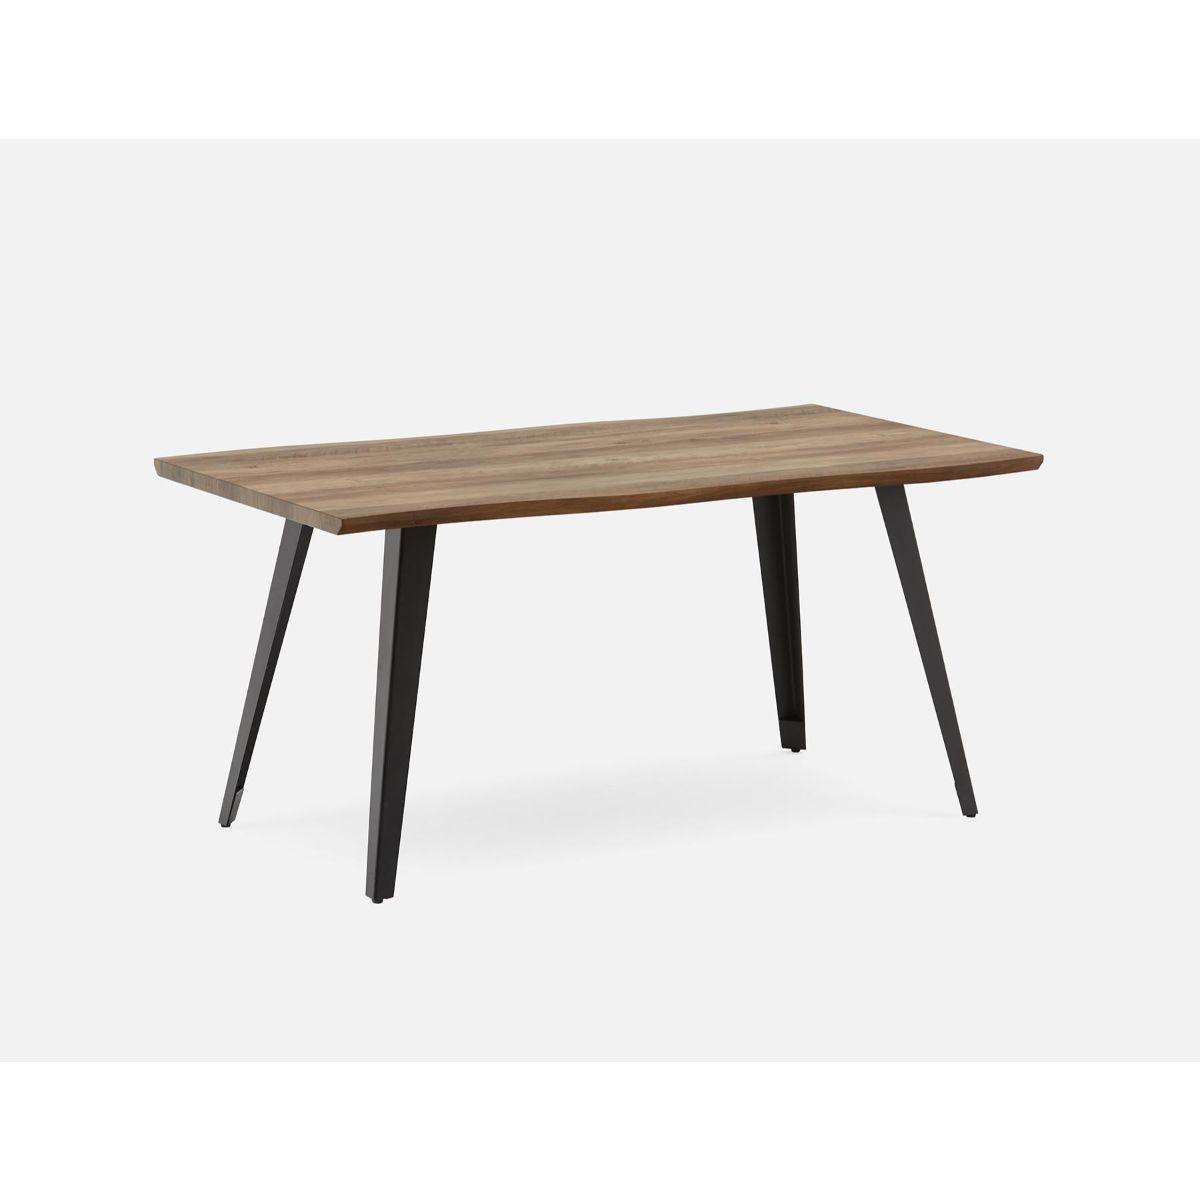Table: (134, 355, 1074, 939)
